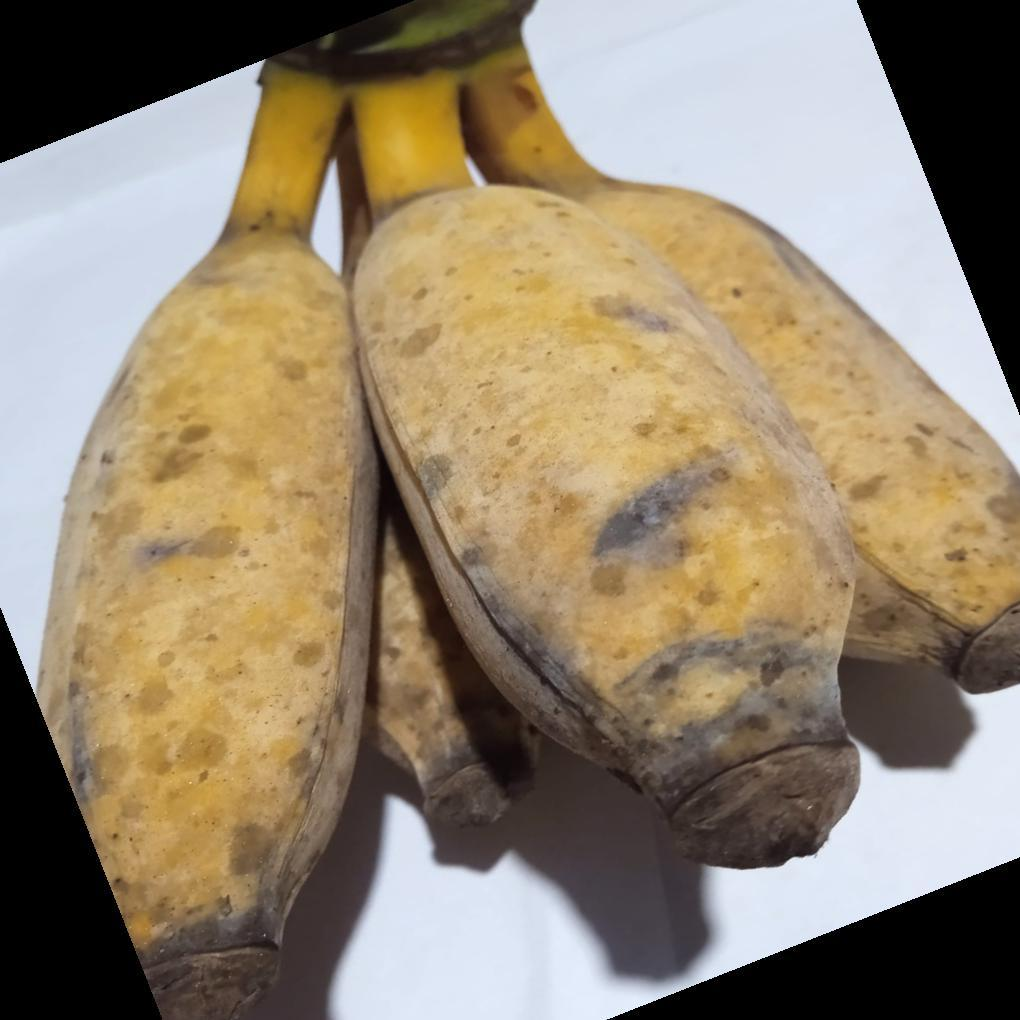Banana Ripe: (333, 0, 1020, 910), (341, 0, 890, 940), (41, 55, 415, 1020)
